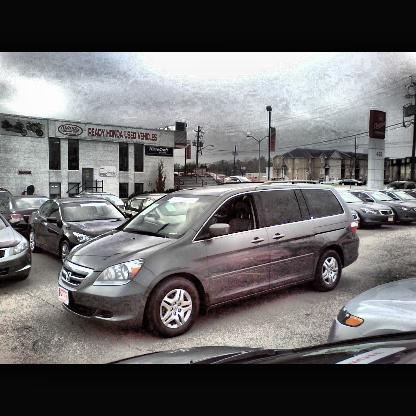Honda Odyssey Minivan 2007: (57, 178, 364, 341)
